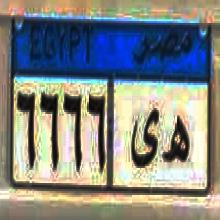6: (84, 90, 109, 177), (38, 88, 60, 174), (62, 87, 82, 177), (16, 85, 35, 172)
haa: (164, 107, 190, 171)
yaa: (127, 104, 161, 174)
